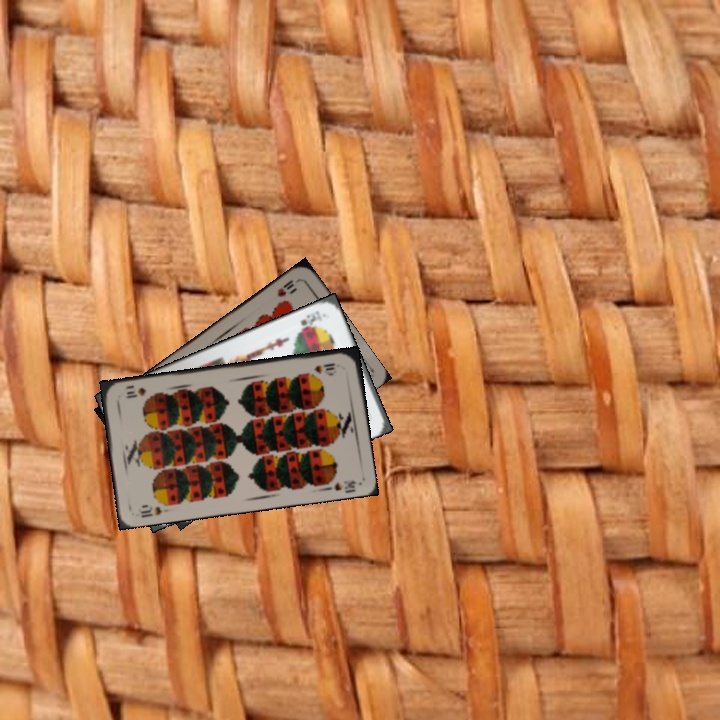H10: (273, 276, 302, 299)
S10: (137, 501, 165, 520), (311, 359, 338, 375)
SK: (296, 307, 325, 332)
